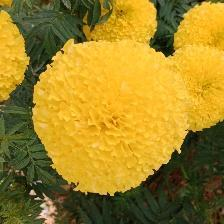marigold: (31, 38, 192, 198)
